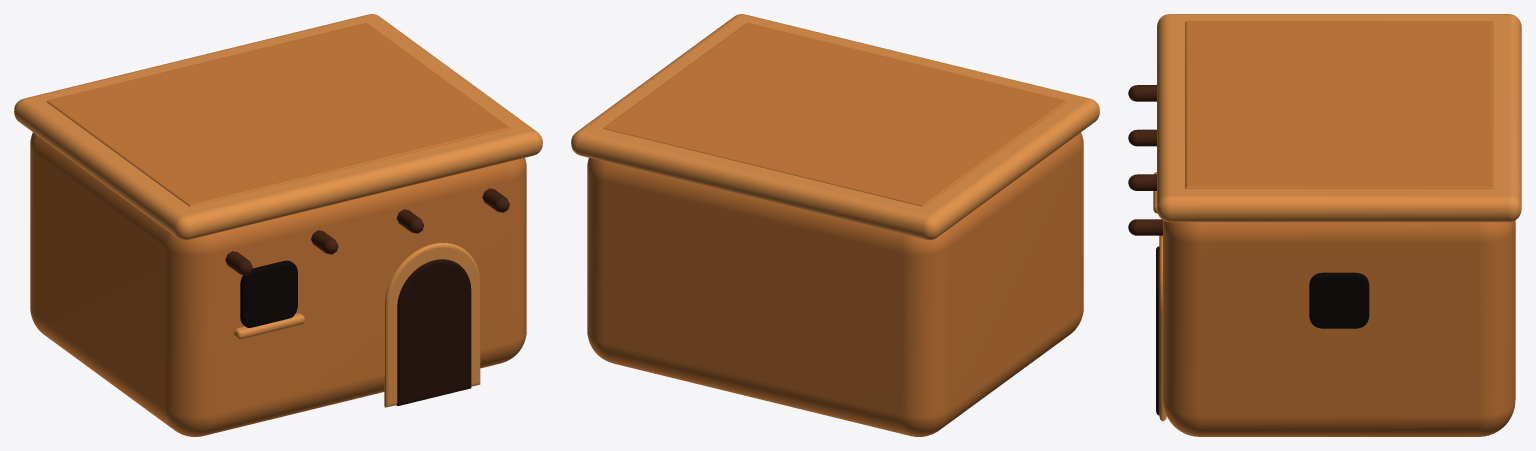
The model's file is adobe_a.glb.
3 views of the same model, side by side, from view 1: azimuth 30°, elevation 25°; view 2: azimuth 150°, elevation 25°; view 3: azimuth 270°, elevation 25° (orthographic). The views are drawn at different scales.
Parts seen in each view (by area): view 1: adobe_a; view 2: adobe_a; view 3: adobe_a.
Boxes of the visible parts, left/top/right/bottom form: adobe_a: left=14, top=14, right=542, bottom=436; adobe_a: left=571, top=14, right=1099, bottom=436; adobe_a: left=1128, top=14, right=1521, bottom=436.
Bounding box in the file's own units: 5.14 × 3.2 × 4.46.
